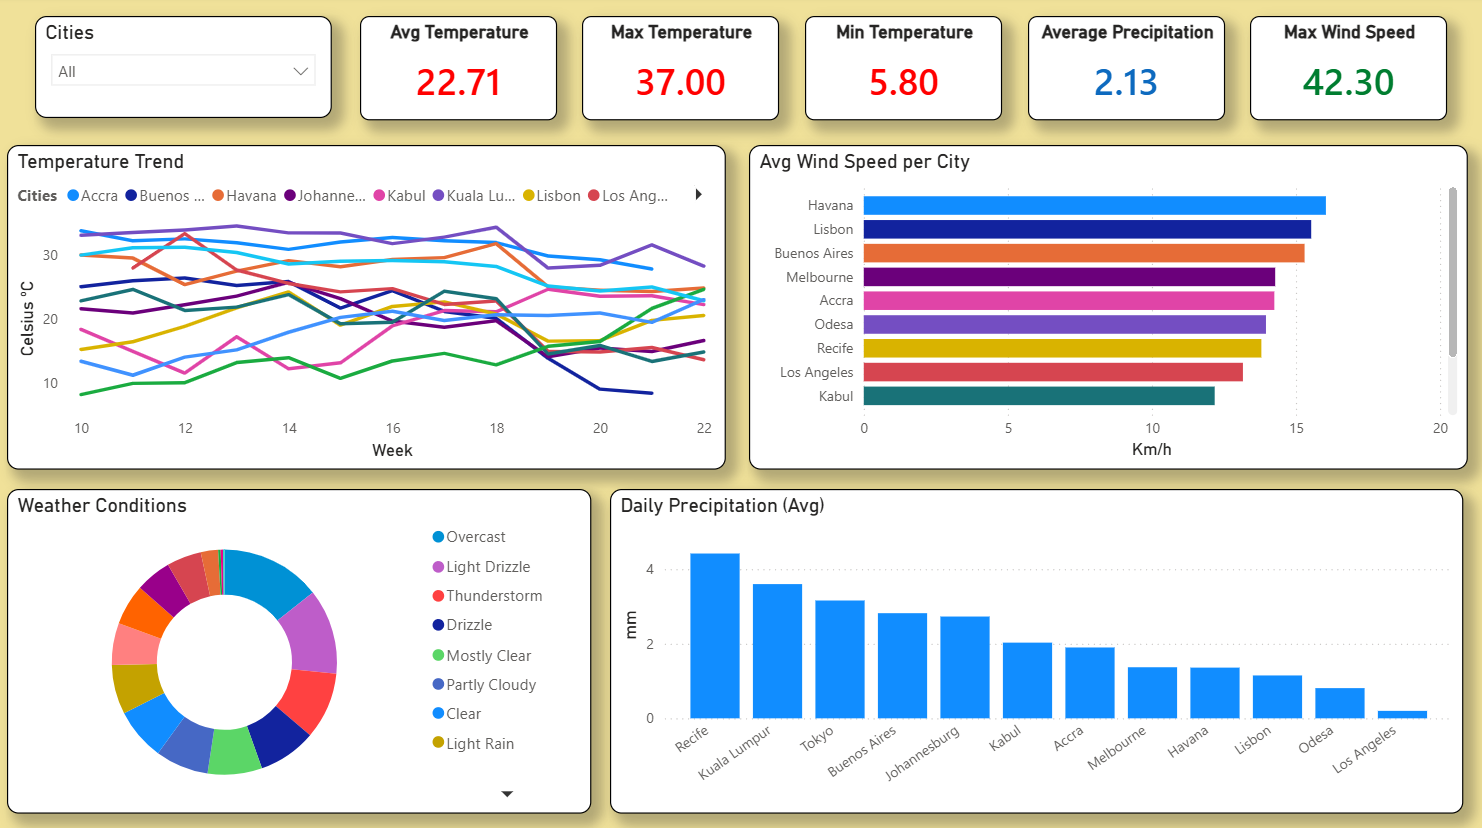

Layout of this report page (visuals, bound fields, positions):
{"tool":"powerbi","page":{"name":"Page 1","canvas":[1280,720],"ordinal":0},"visuals":[{"type":"barChart","title":"Avg Wind Speed per City","fields":{"Y":["Sum(mv_weather_city_summary.avg_wind_speed)"],"Category":["mv_weather_city_summary.city_name"],"Series":["mv_weather_city_summary.city_name"]},"box":[648,128,620,280],"z":0},{"type":"lineChart","title":"Temperature Trend","fields":{"Category":["mv_weather_city_weekly.week"],"Y":["Sum(mv_weather_city_weekly.avg_temp)"],"Series":["mv_weather_city_weekly.city_name"]},"box":[8,128,620,280],"z":1000},{"type":"cardVisual","title":"Avg Temperature","fields":{"Data":["Avg(mv_weather_city_summary.avg_temp)"]},"box":[312,16,170,90],"z":2000},{"type":"cardVisual","title":"Max Wind Speed","fields":{"Data":["Max(mv_weather_city_summary.max_wind_speed)"]},"box":[1080,16,170,90],"z":3000},{"type":"cardVisual","title":"Average Precipitation","fields":{"Data":["Avg(mv_weather_city_summary.avg_precip)"]},"box":[888,16,170,90],"z":4000},{"type":"cardVisual","title":"Max Temperature","fields":{"Data":["Max(mv_weather_city_summary.max_temp)"]},"box":[504,16,170,90],"z":5000},{"type":"cardVisual","title":"Min Temperature","fields":{"Data":["Min(mv_weather_city_summary.min_temp)"]},"box":[696,16,170,90],"z":6000},{"type":"slicer","title":"Cities","fields":{"Values":["public dim_location.city_name"]},"box":[32,16,256,88],"z":7000},{"type":"donutChart","title":"Weather Conditions","fields":{"Category":["public dim_weather_condition.weather_description"],"Y":["Count(public fact_weather.date_key)"]},"box":[8,424,504,280],"z":8000},{"type":"columnChart","title":"Daily Precipitation (Avg)","fields":{"Y":["Sum(mv_weather_city_summary.avg_precip)"],"Category":["mv_weather_city_summary.city_name"]},"box":[528,424,736,280],"z":8001}]}

Visuals, with their boxes in screenshot pixels (x1, y1, x2, y2), scaled from the page's 1280x720 canvas onto the 1482x828 screenshot:
"Avg Wind Speed per City" barChart: 750 147 1468 469
"Temperature Trend" lineChart: 9 147 727 469
"Avg Temperature" cardVisual: 361 18 558 122
"Max Wind Speed" cardVisual: 1250 18 1447 122
"Average Precipitation" cardVisual: 1028 18 1225 122
"Max Temperature" cardVisual: 584 18 780 122
"Min Temperature" cardVisual: 806 18 1003 122
"Cities" slicer: 37 18 333 120
"Weather Conditions" donutChart: 9 488 593 810
"Daily Precipitation (Avg)" columnChart: 611 488 1463 810
